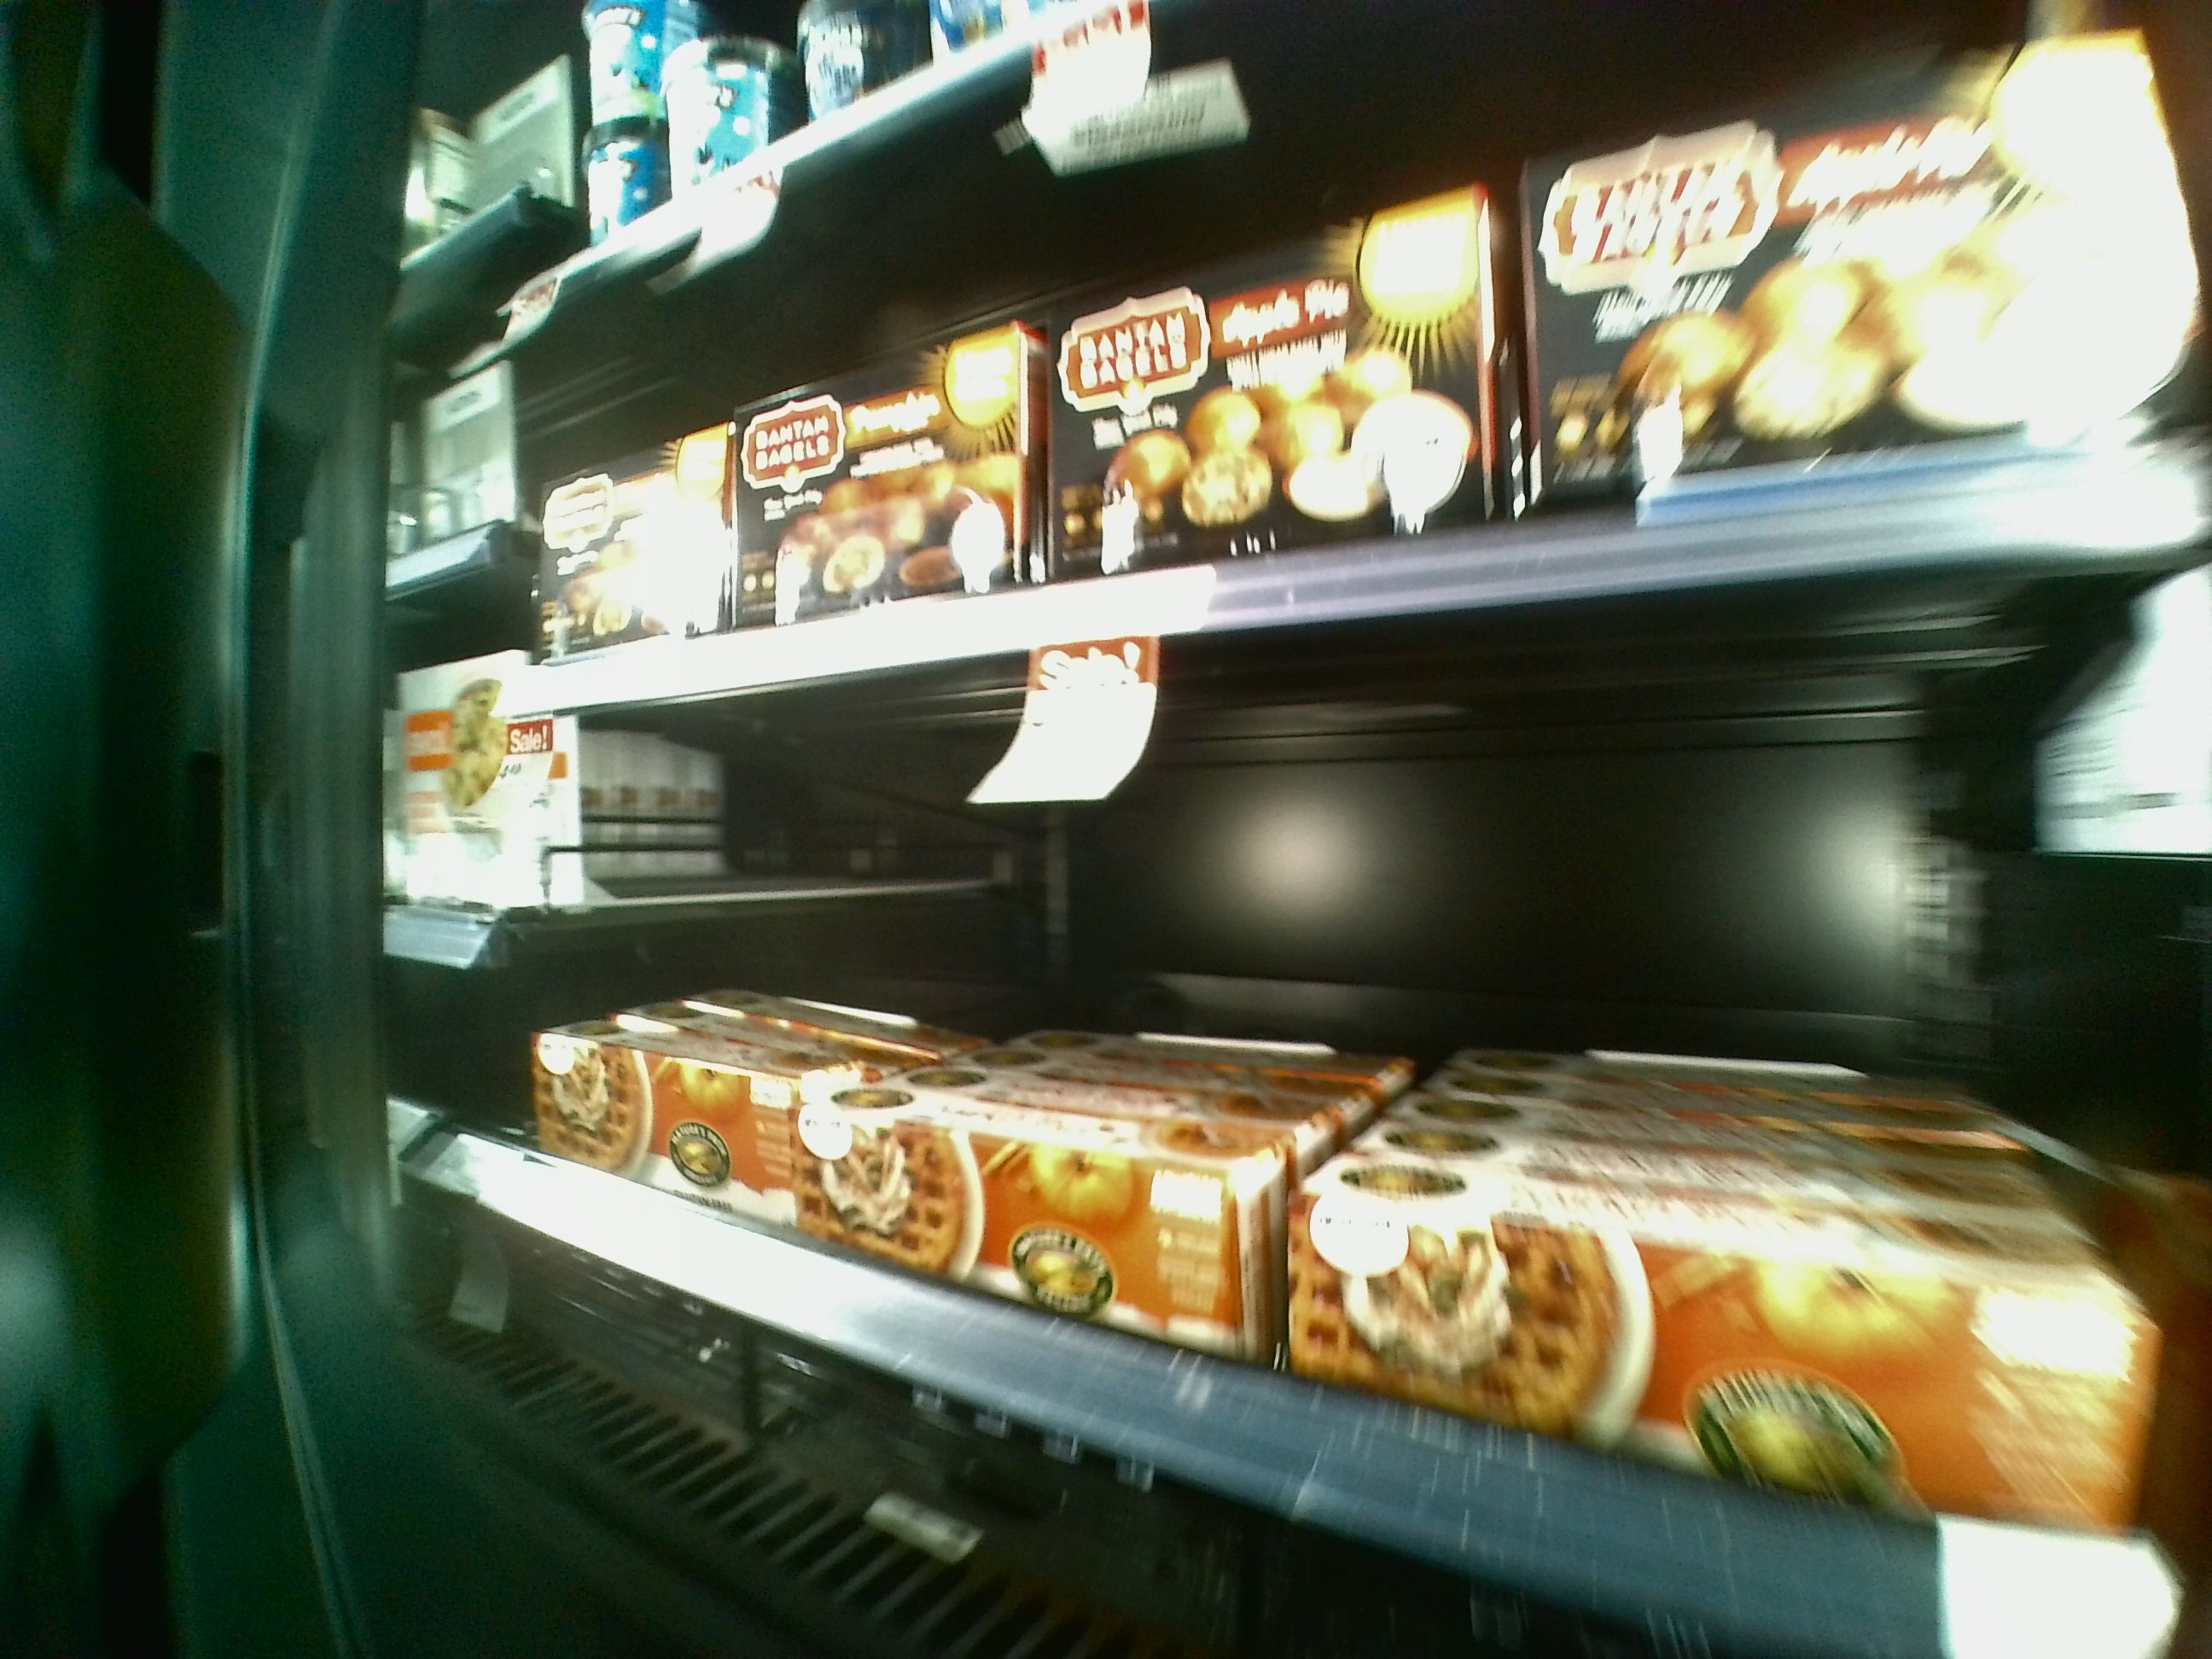shelf: (477, 657, 2195, 1642)
